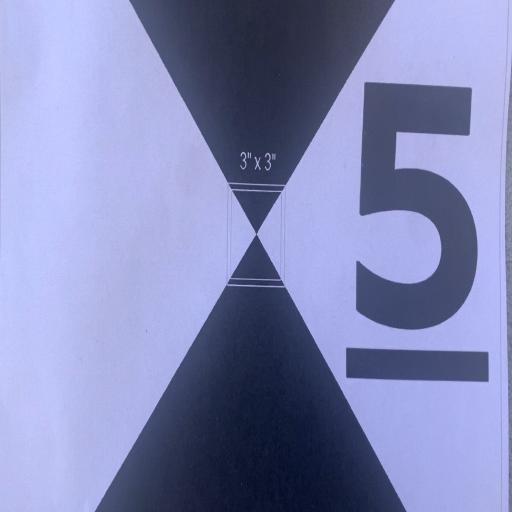target5: (0, 0, 510, 512)
